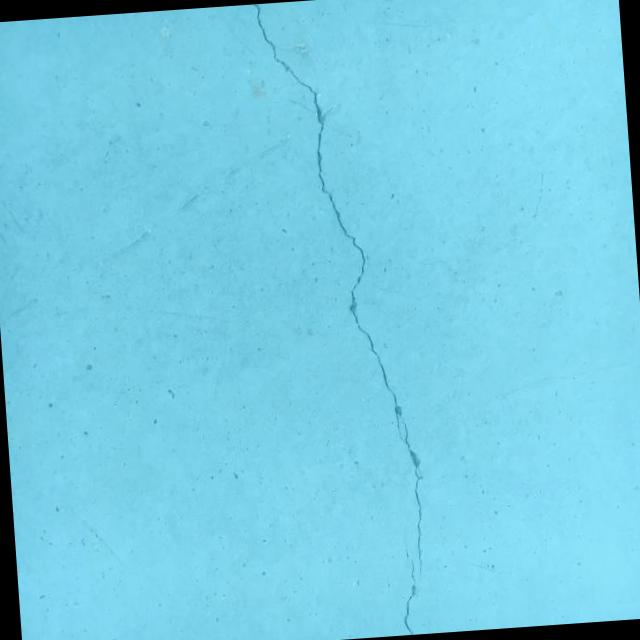crack: (252, 0, 433, 640)
